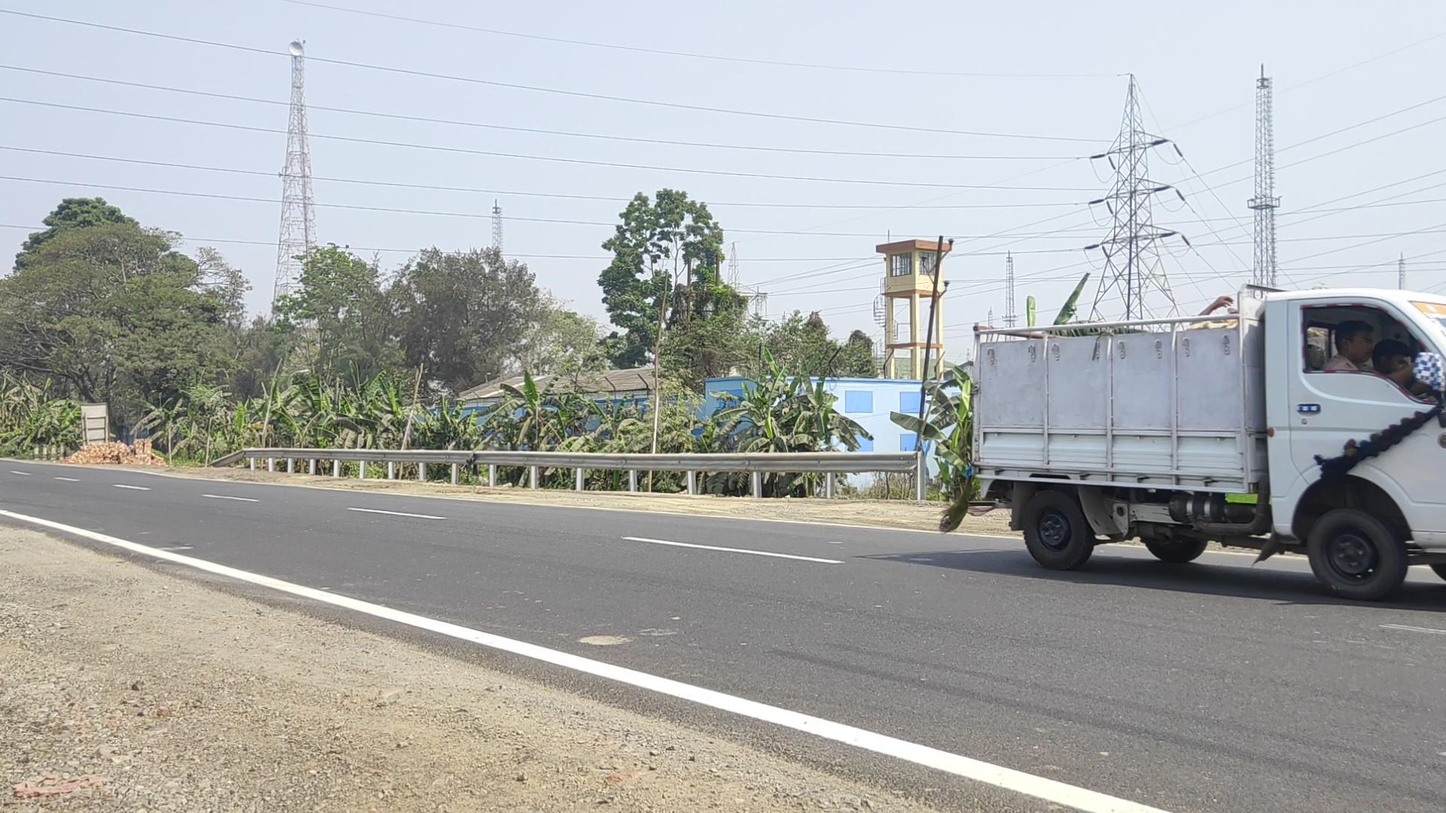van: (969, 282, 1446, 601)
